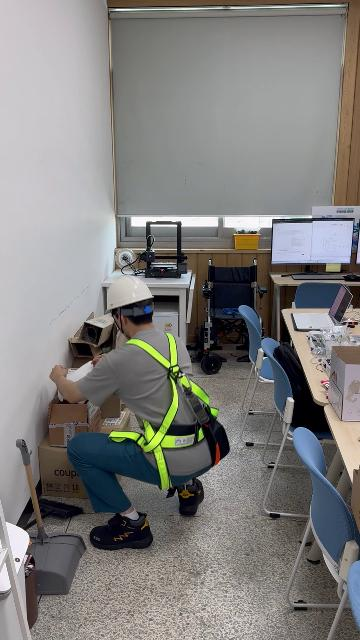helmet_worn: (105, 274, 156, 313)
shoe_worn: (89, 510, 153, 550), (176, 478, 203, 516)
vest_worn: (106, 336, 221, 490)
